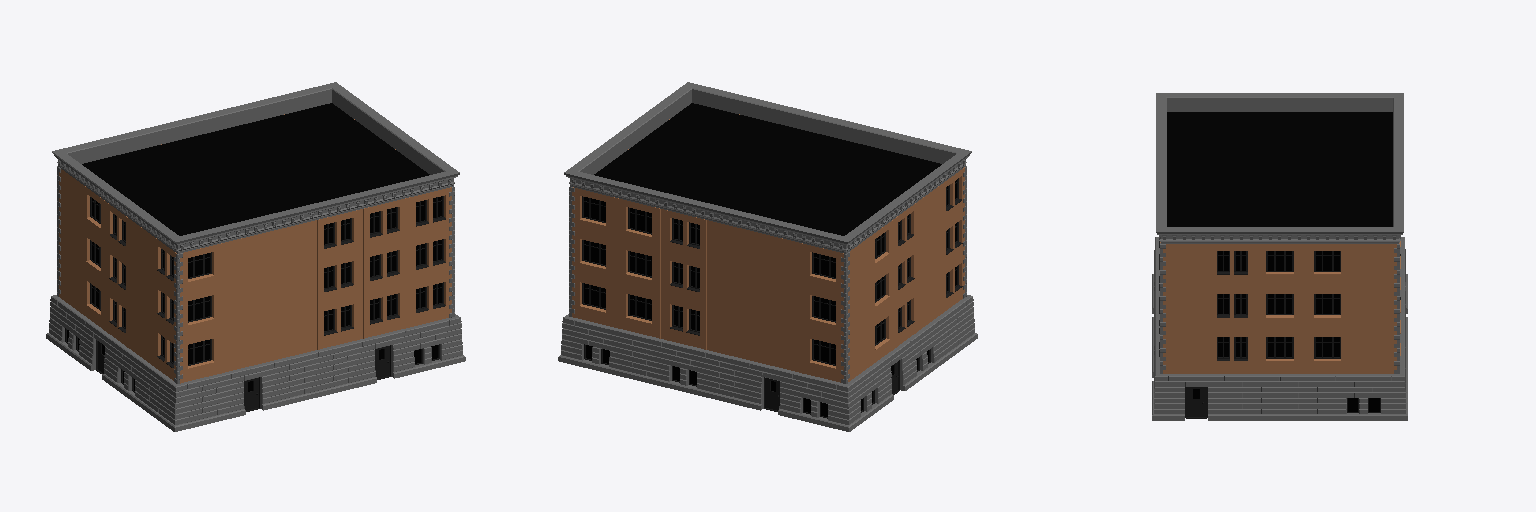
File: building_base.obj
The picture shows the model from 3 angles: view 1: azimuth 30°, elevation 25°; view 2: azimuth 150°, elevation 25°; view 3: azimuth 270°, elevation 25°; orthographic projection.
Visible parts, largest first — view 1: Plane, middle_floor_wall_02, middle_floor_wall_01, trimm, middle_floor_wall_03, ground_floor_wall_02, ground_floor_wall_01, ground_floor_wall_03, ground_floor_pillar_CV_0.5m, middle_floor_pillar_CV; view 2: Plane, middle_floor_wall_03, middle_floor_wall_01, trimm, middle_floor_wall_02, ground_floor_wall_03, ground_floor_wall_02, ground_floor_wall_01, ground_floor_pillar_CV_0.5m, middle_floor_pillar_CV; view 3: Plane, middle_floor_wall_03, trimm, middle_floor_wall_01, middle_floor_wall_02, ground_floor_wall_02, ground_floor_wall_03, ground_floor_wall_01, ground_floor_pillar_CV_0.5m, middle_floor_pillar_CV.
Part boxes in pixels (bbox=[...]): Plane: bbox=[82, 103, 429, 235]; middle_floor_wall_02: bbox=[106, 187, 451, 380]; middle_floor_wall_01: bbox=[59, 144, 315, 372]; trimm: bbox=[54, 83, 456, 253]; middle_floor_wall_03: bbox=[82, 114, 395, 383]; ground_floor_wall_02: bbox=[138, 340, 363, 428]; ground_floor_wall_01: bbox=[83, 320, 407, 417]; ground_floor_wall_03: bbox=[55, 300, 450, 404]; ground_floor_pillar_CV_0.5m: bbox=[46, 295, 465, 431]; middle_floor_pillar_CV: bbox=[57, 166, 454, 383]; Plane: bbox=[594, 103, 941, 235]; middle_floor_wall_03: bbox=[572, 149, 893, 382]; middle_floor_wall_01: bbox=[708, 184, 941, 381]; trimm: bbox=[567, 83, 969, 253]; middle_floor_wall_02: bbox=[662, 114, 964, 349]; ground_floor_wall_03: bbox=[573, 318, 940, 428]; ground_floor_wall_02: bbox=[616, 300, 968, 407]; ground_floor_wall_01: bbox=[748, 340, 913, 417]; ground_floor_pillar_CV_0.5m: bbox=[558, 295, 977, 431]; middle_floor_pillar_CV: bbox=[569, 166, 966, 383]; Plane: bbox=[1167, 112, 1392, 226]; middle_floor_wall_03: bbox=[1256, 241, 1400, 373]; trimm: bbox=[1156, 93, 1403, 243]; middle_floor_wall_01: bbox=[1163, 244, 1396, 373]; middle_floor_wall_02: bbox=[1159, 241, 1400, 373]; ground_floor_wall_02: bbox=[1152, 243, 1407, 420]; ground_floor_wall_03: bbox=[1152, 243, 1407, 420]; ground_floor_wall_01: bbox=[1152, 264, 1407, 420]; ground_floor_pillar_CV_0.5m: bbox=[1152, 237, 1407, 420]; middle_floor_pillar_CV: bbox=[1160, 242, 1399, 373].
Bounding box in the file's own units: 21.11 × 13.01 × 16.11.